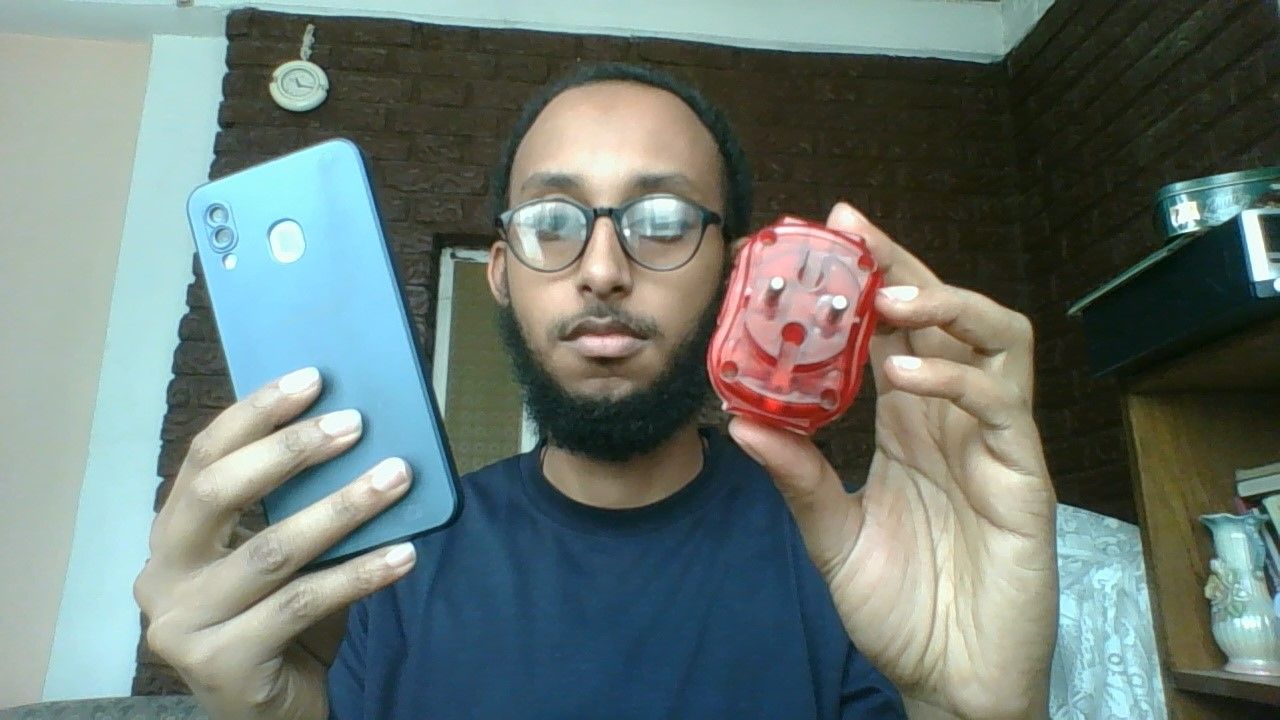Multi_adapter: (699, 199, 887, 441)
Smart_phone: (180, 131, 473, 569)
